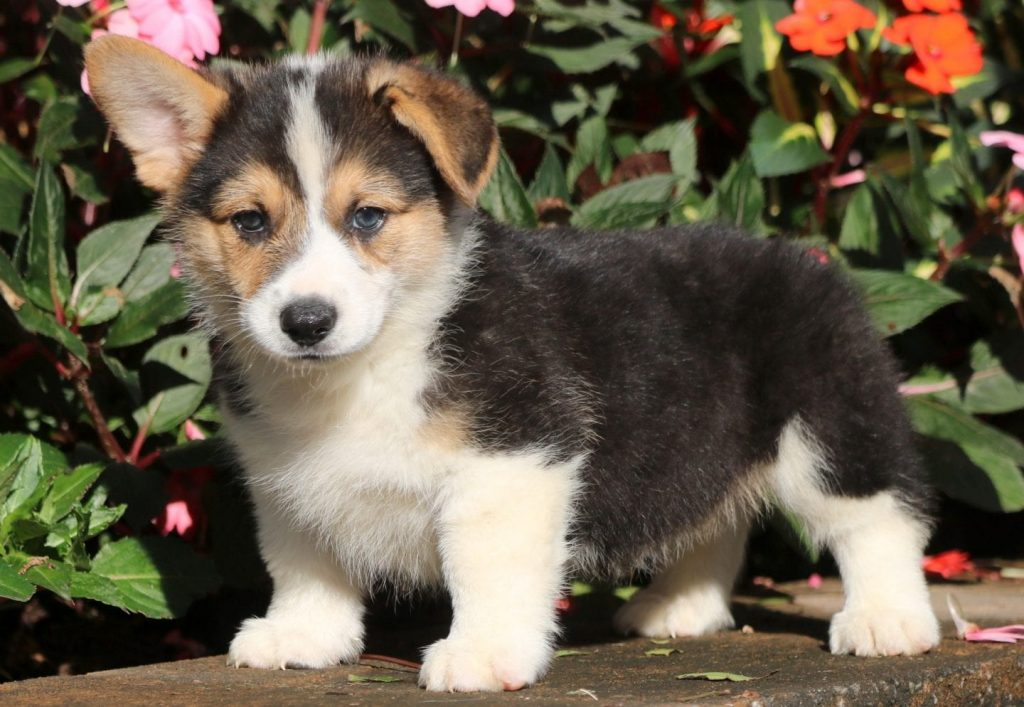corgi: (83, 29, 947, 700)
